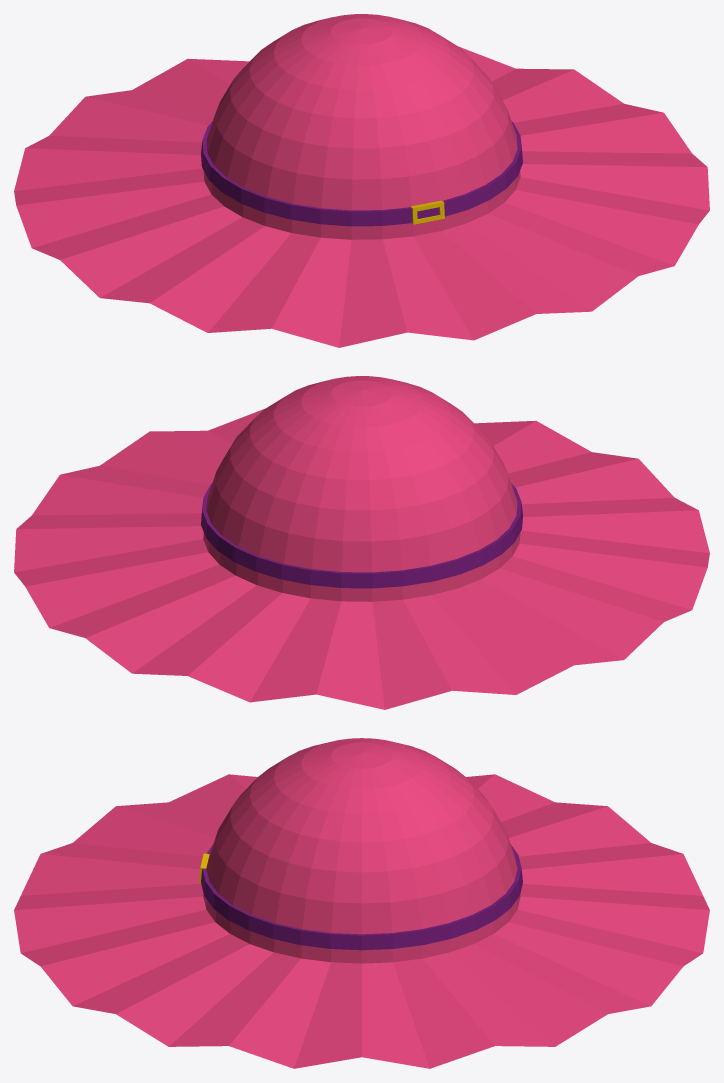
The model's file is oldLadyHat.fbx.
3 renders of one model, top to bottom at view 1: azimuth 30°, elevation 25°; view 2: azimuth 150°, elevation 25°; view 3: azimuth 270°, elevation 25°, orthographic.
Visible parts, largest first — view 1: Old Lady Hat; view 2: Old Lady Hat; view 3: Old Lady Hat.
Part boxes in pixels (<box>): Old Lady Hat: <box>14,14,709,347</box>; Old Lady Hat: <box>14,376,709,709</box>; Old Lady Hat: <box>14,738,709,1068</box>.
Size of the model in its own units: 439 by 120 by 439.
